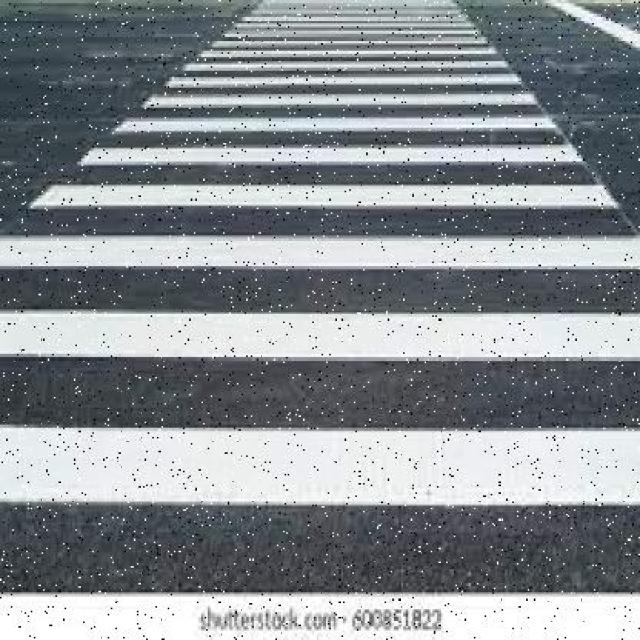intact_crosswalk: (0, 0, 639, 595)
